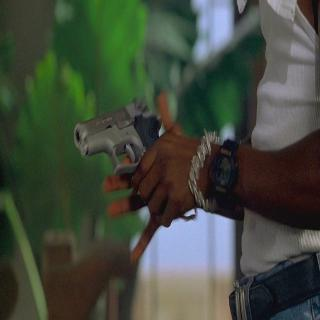gun: (72, 94, 180, 226)
